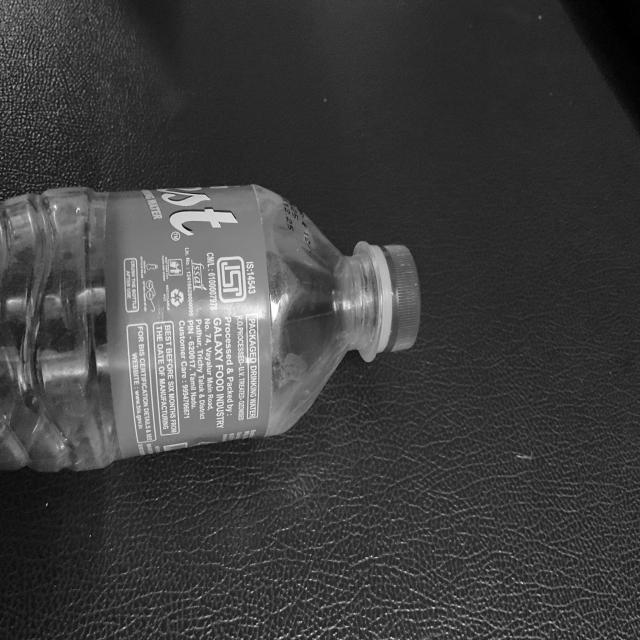Good-cap-Df0S: (355, 238, 422, 362)
